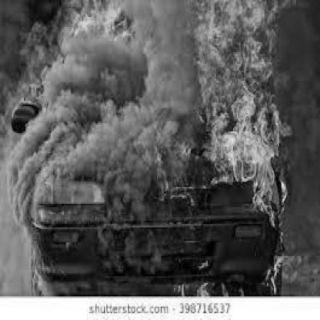Fire: (180, 0, 291, 224), (62, 1, 140, 37), (264, 247, 303, 285)
